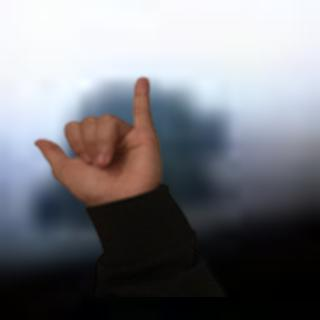HAVE: (28, 71, 165, 210)
